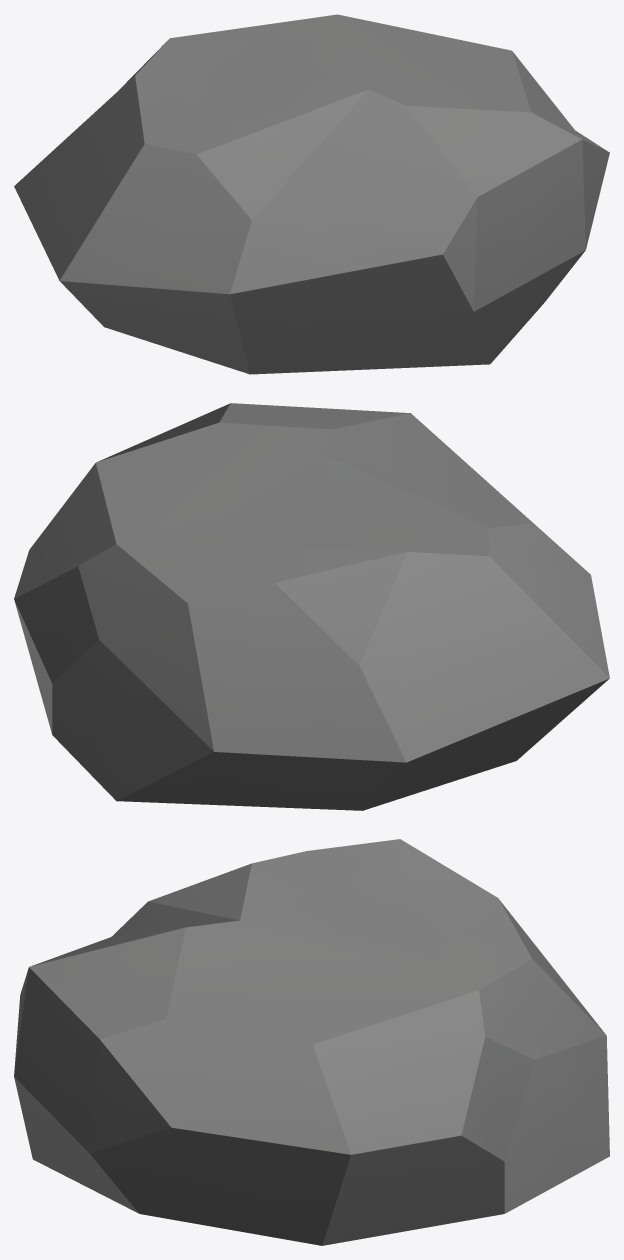
The model's file is Rock005.fbx.
3 renders of one model, top to bottom at view 1: azimuth 30°, elevation 25°; view 2: azimuth 150°, elevation 25°; view 3: azimuth 270°, elevation 25°, orthographic. The views are drawn at different scales.
Parts seen in each view (by area): view 1: Cylinder.013; view 2: Cylinder.013; view 3: Cylinder.013.
Part boxes in pixels (x1,y1,x2,y2): Cylinder.013: [14, 14, 609, 374]; Cylinder.013: [14, 403, 609, 810]; Cylinder.013: [14, 839, 609, 1245].
Bounding box in the file's own units: 247 × 96.55 × 231.
